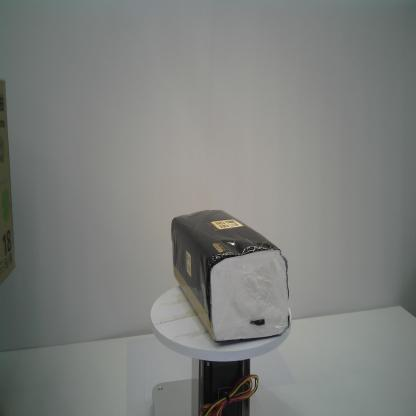Tissue: (170, 208, 291, 344)
